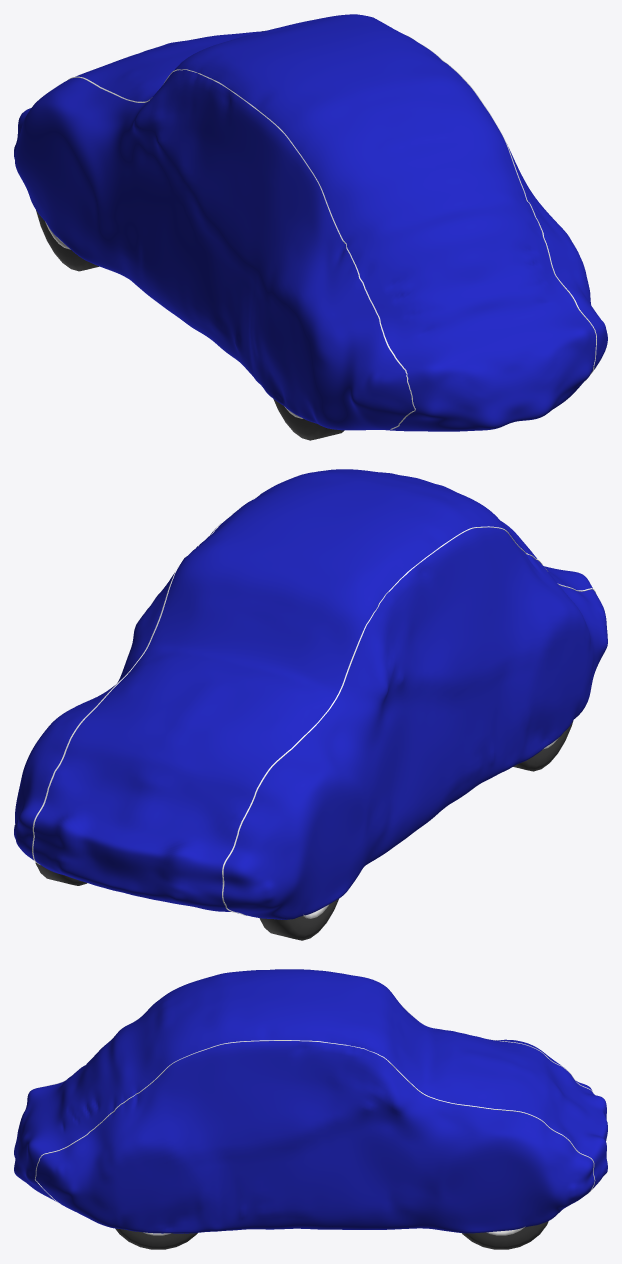
Rendered from fusca.glb.
The picture shows the model from 3 angles, top to bottom: view 1: azimuth 30°, elevation 25°; view 2: azimuth 150°, elevation 25°; view 3: azimuth 270°, elevation 25°; orthographic projection. The views are drawn at different scales.
Parts seen in each view (by area): view 1: CAPA, RODA, LINHA.001; view 2: CAPA, RODA, LINHA.001; view 3: CAPA, RODA, LINHA.001.
Boxes of the visible parts, box(x1,y1,x2,y2) form: CAPA: box(14, 14, 607, 431); RODA: box(36, 210, 344, 440); LINHA.001: box(67, 30, 596, 429); CAPA: box(14, 469, 607, 919); RODA: box(35, 721, 573, 940); LINHA.001: box(32, 490, 596, 915); CAPA: box(14, 969, 607, 1233); RODA: box(115, 1221, 548, 1249); LINHA.001: box(34, 1005, 595, 1204).
Size of the model in its own units: 5.76 by 5.64 by 14.15.
